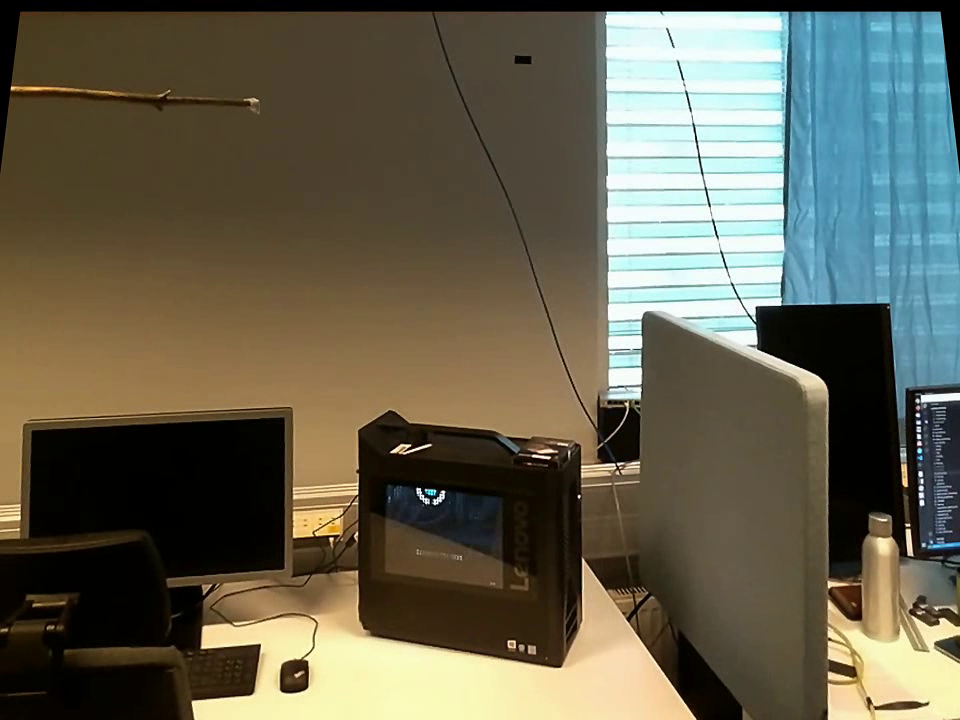branch: (9, 74, 240, 121)
